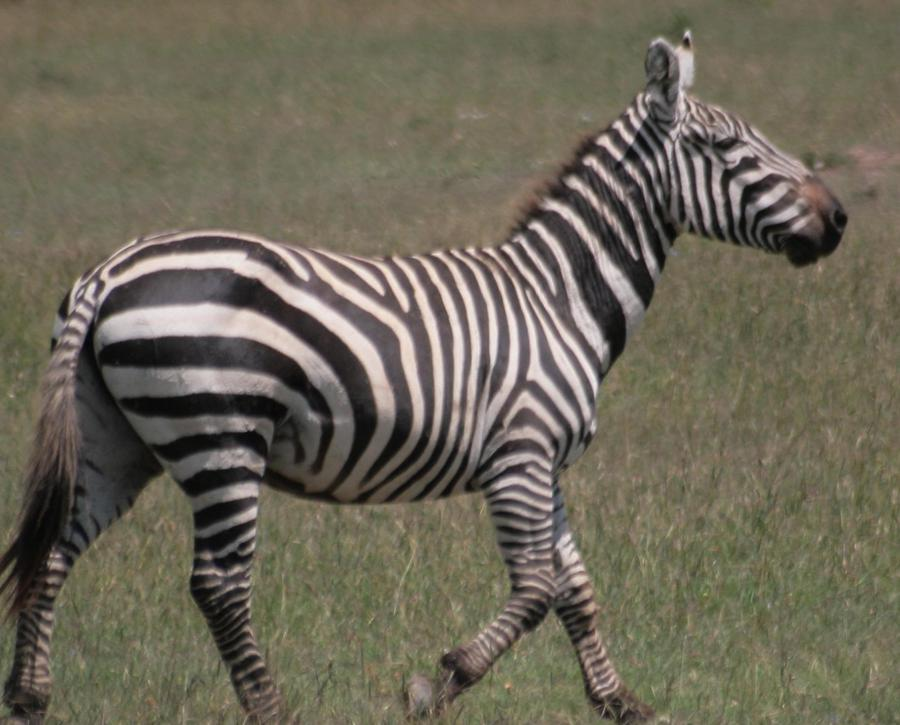zebra_plains: (120, 200, 618, 546)
